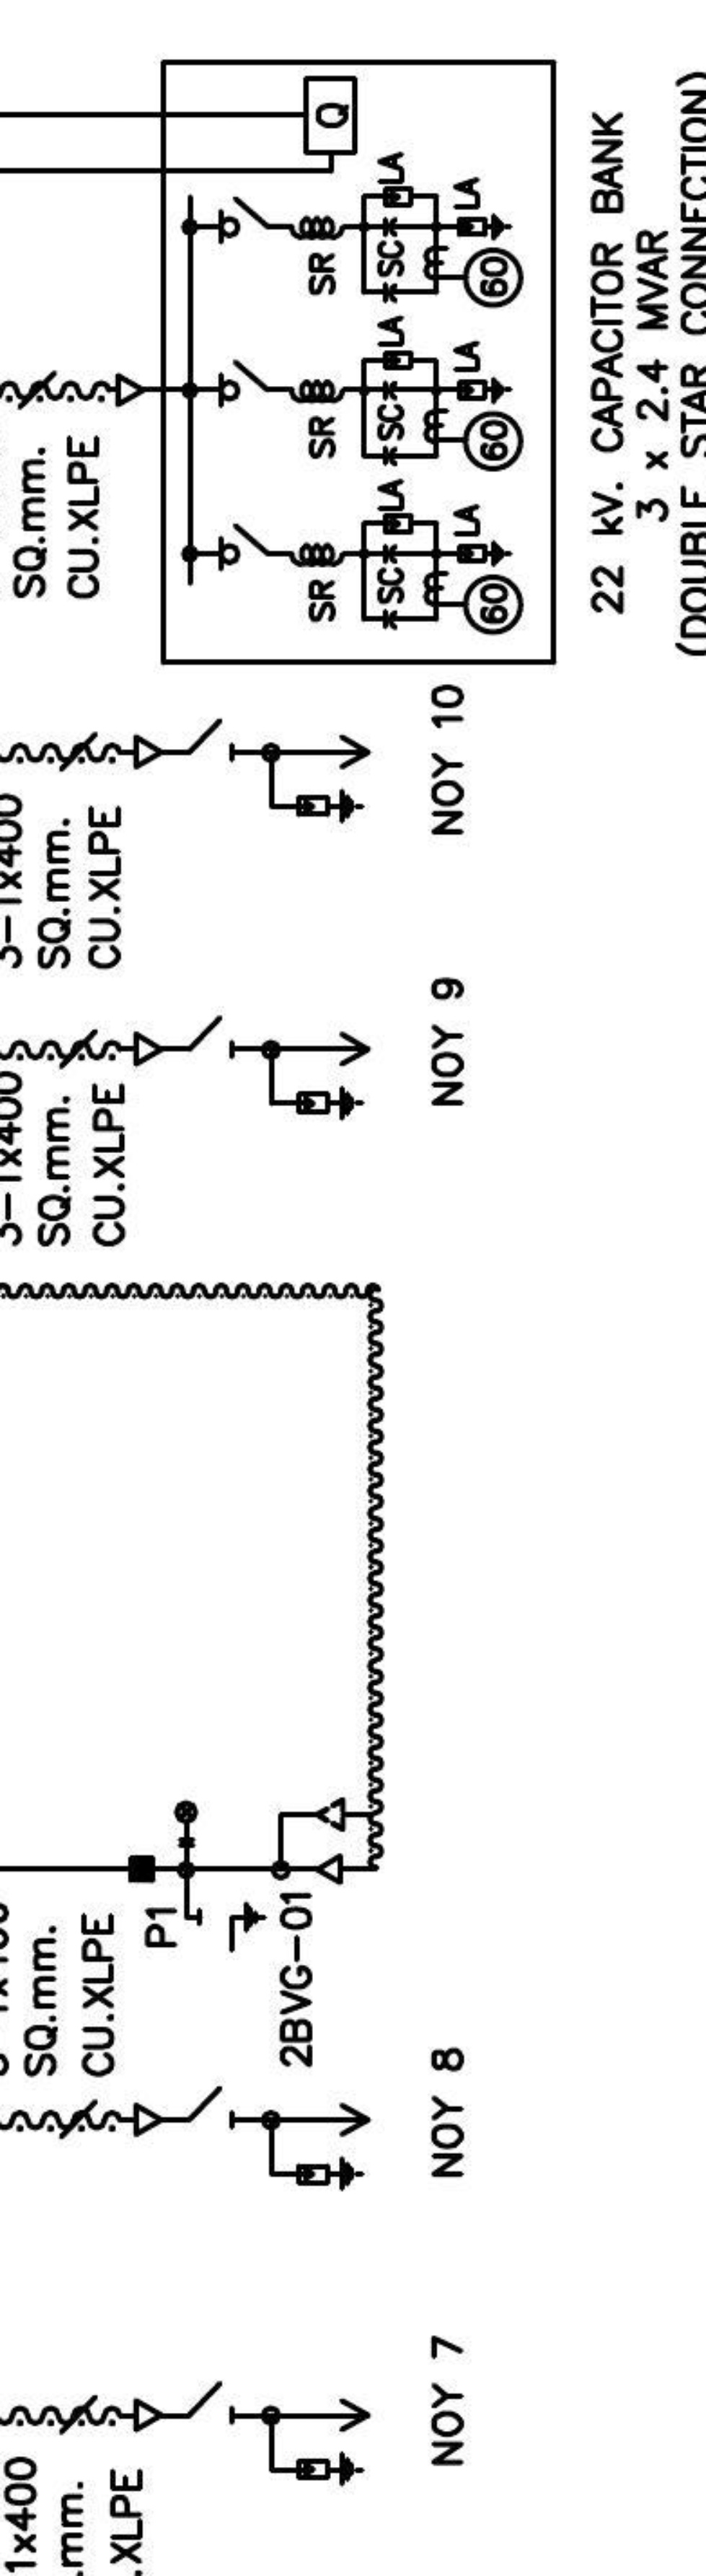22_cap_bank: (159, 59, 558, 667)
22_ds_la_out: (187, 2380, 373, 2489), (189, 2083, 373, 2192), (189, 1014, 373, 1122), (189, 716, 373, 825)
22_gs: (195, 1899, 268, 1953)
22_ll: (171, 1799, 200, 1850)
Q: (302, 74, 360, 156)
terminator_single: (131, 2101, 164, 2137), (113, 373, 146, 409), (133, 733, 164, 770), (131, 2397, 163, 2433), (133, 1032, 164, 1068)
terminator_w_future: (276, 1796, 346, 1886)
